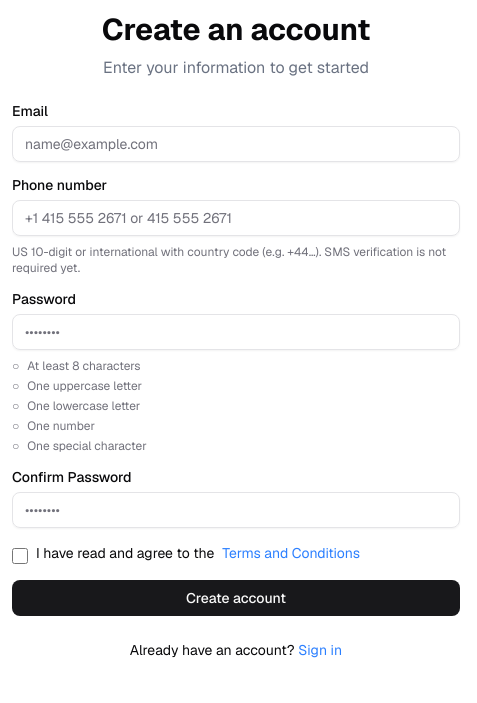
Test: Authentication Flow › RegisterForm › requires accepting terms before submit
Type "test@example.com" into the field labelled "Email" at point(236, 144), box [12,126,460,162]
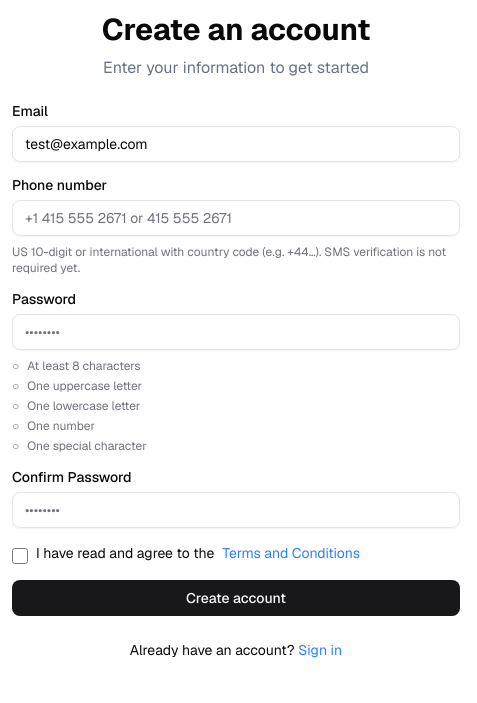
Type "4155552671" into the field labelled "Phone number" at point(236, 218), box [12,200,460,236]
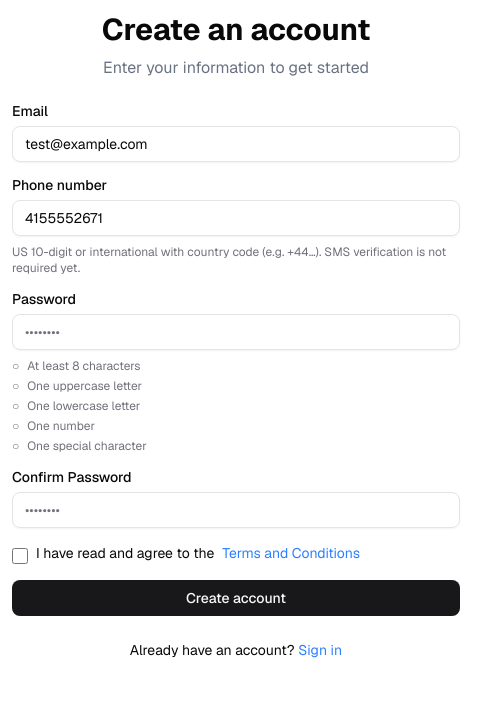
Type "Secure1!pass" into the password field labelled "Password" at point(236, 332), box [12,314,460,350]
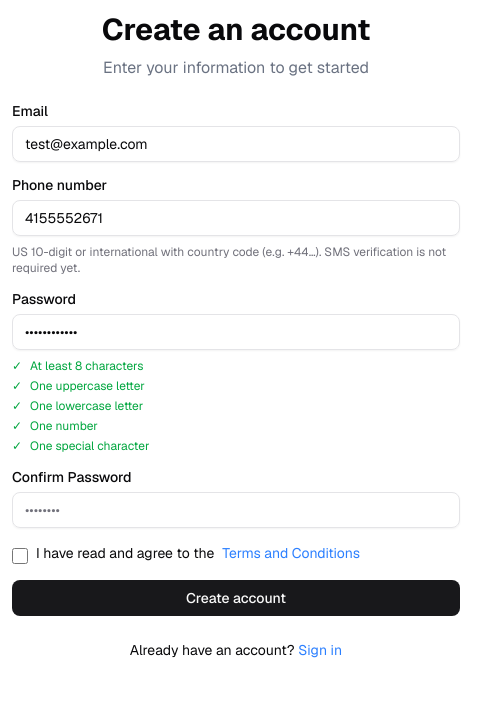
Type "Secure1!pass" into the password field labelled "Confirm Password" at point(236, 510), box [12,492,460,528]
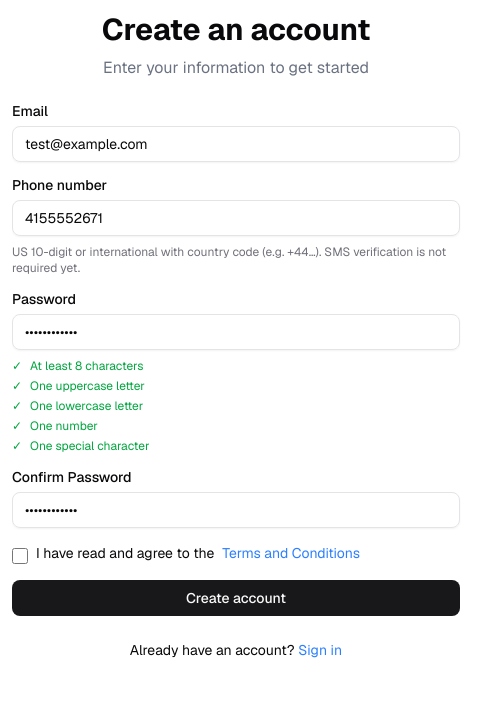
Click the button "Create account" at point(236, 598), box [12,580,460,616]
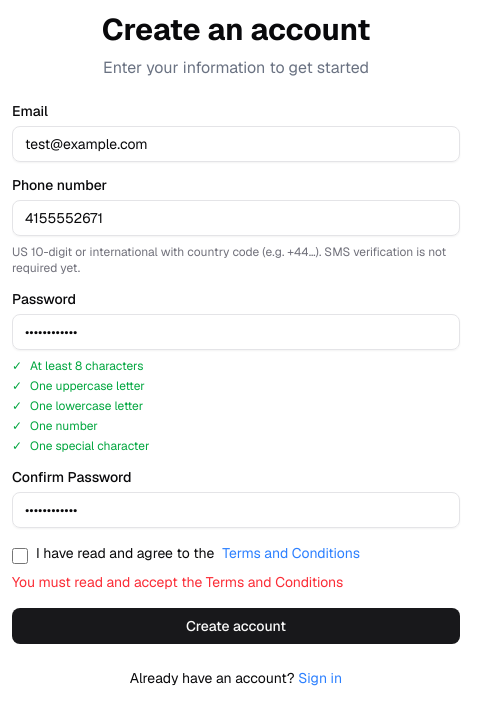
Expected: the text "You must read and accept the Terms and Conditions" is shown, [12,573,343,591]
